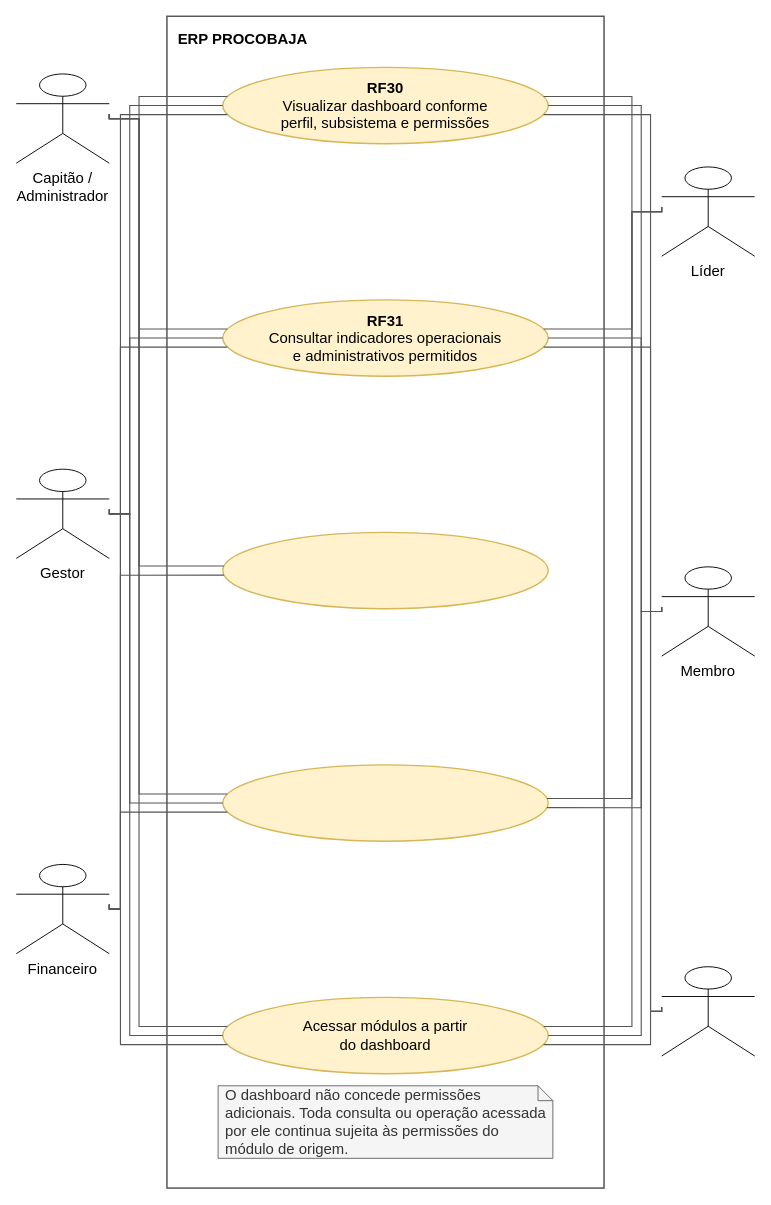
Image size: 771x1205. Some labels were removed from this diagram. The shapes that lost their labels are listed below. From the top down, each one's centre as x and y in pixels, then its label:
At [385,570]: "RF31 Consultar indicadores financeiros".
At [385,802]: "RF31 Acompanhar solicitações de compra conforme permissões".
At [708,1011]: "Orientador".
